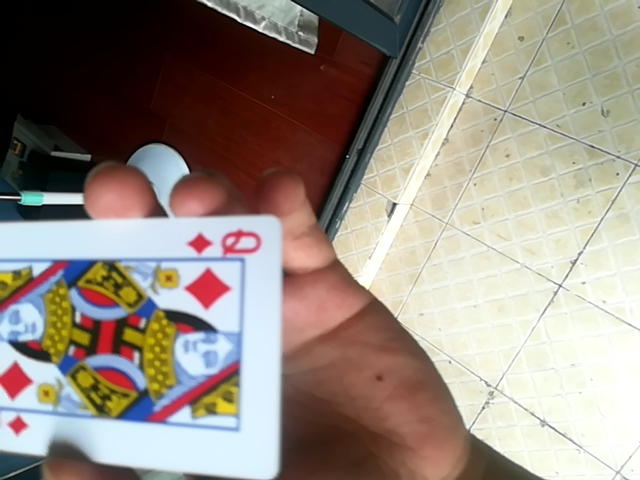fk q: (1, 210, 280, 479)
